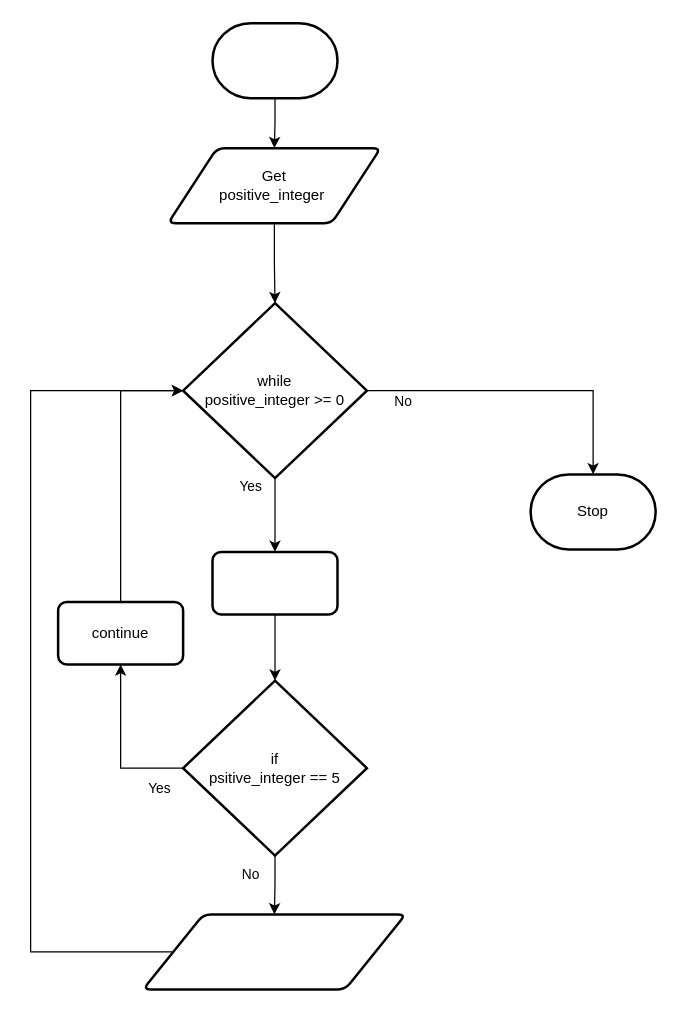
This 679x1011 diagram has some shape labels left out. Here are the shapes that lost their labels. From the top down, the centre of each, then its label:
the point at 274,60: Start
the point at 274,582: positive_integer--
the point at 273,951: Show "Current variable value: xxx"
